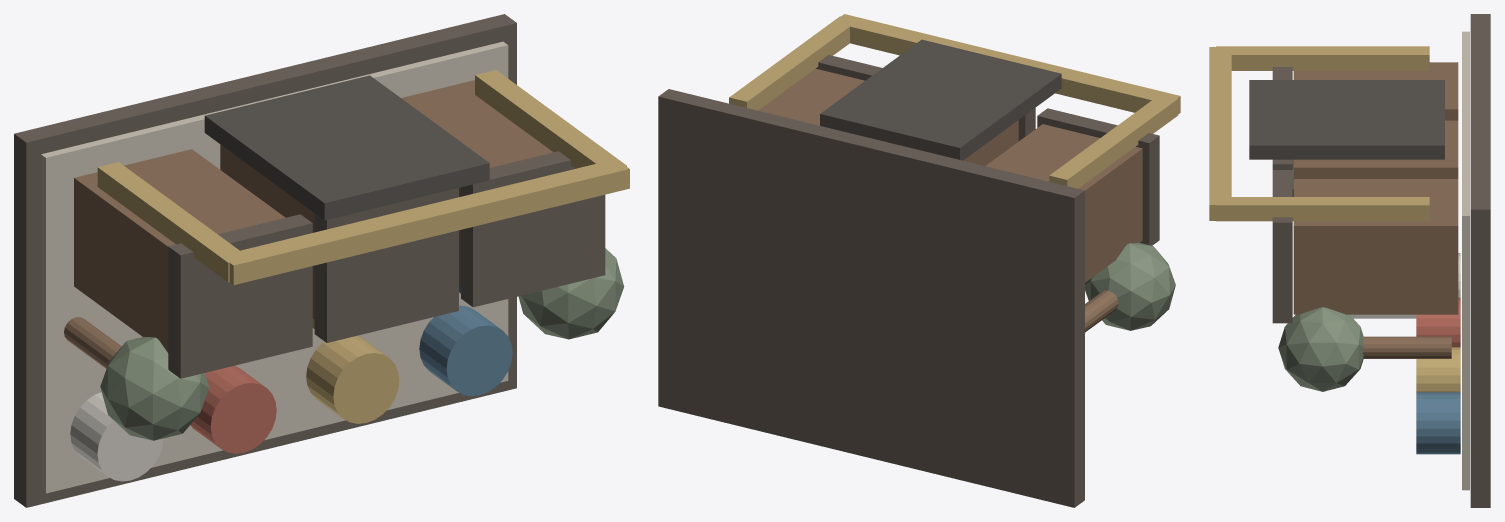
File: sheng_street_static.glb
3 renders of one model, left to right at view 1: azimuth 30°, elevation 25°; view 2: azimuth 150°, elevation 25°; view 3: azimuth 270°, elevation 25°, orthographic. The views are drawn at different scales.
Parts seen in each view (by area): view 1: world; view 2: world; view 3: world.
Boxes of the visible parts, x1=… form: world: x1=14, y1=14, x2=629, y2=507; world: x1=658, y1=14, x2=1180, y2=507; world: x1=1209, y1=14, x2=1490, y2=507.
Bounding box in the file's own units: 1.08 × 0.74 × 0.6325.
